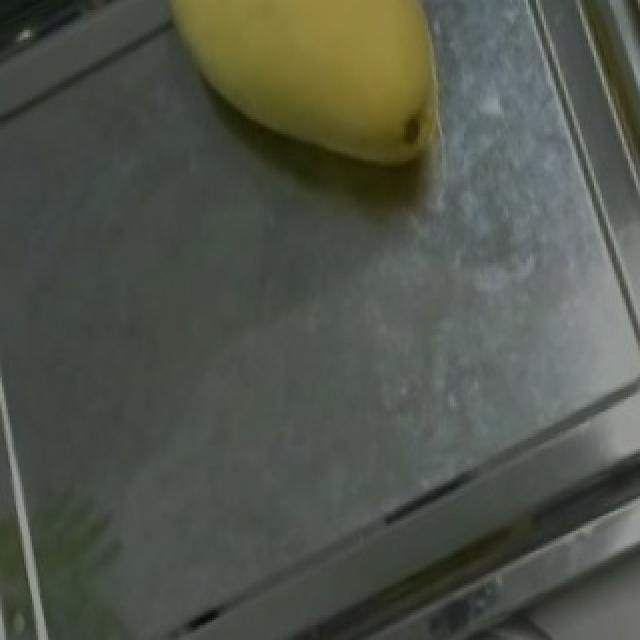fruit: (128, 0, 504, 216)
